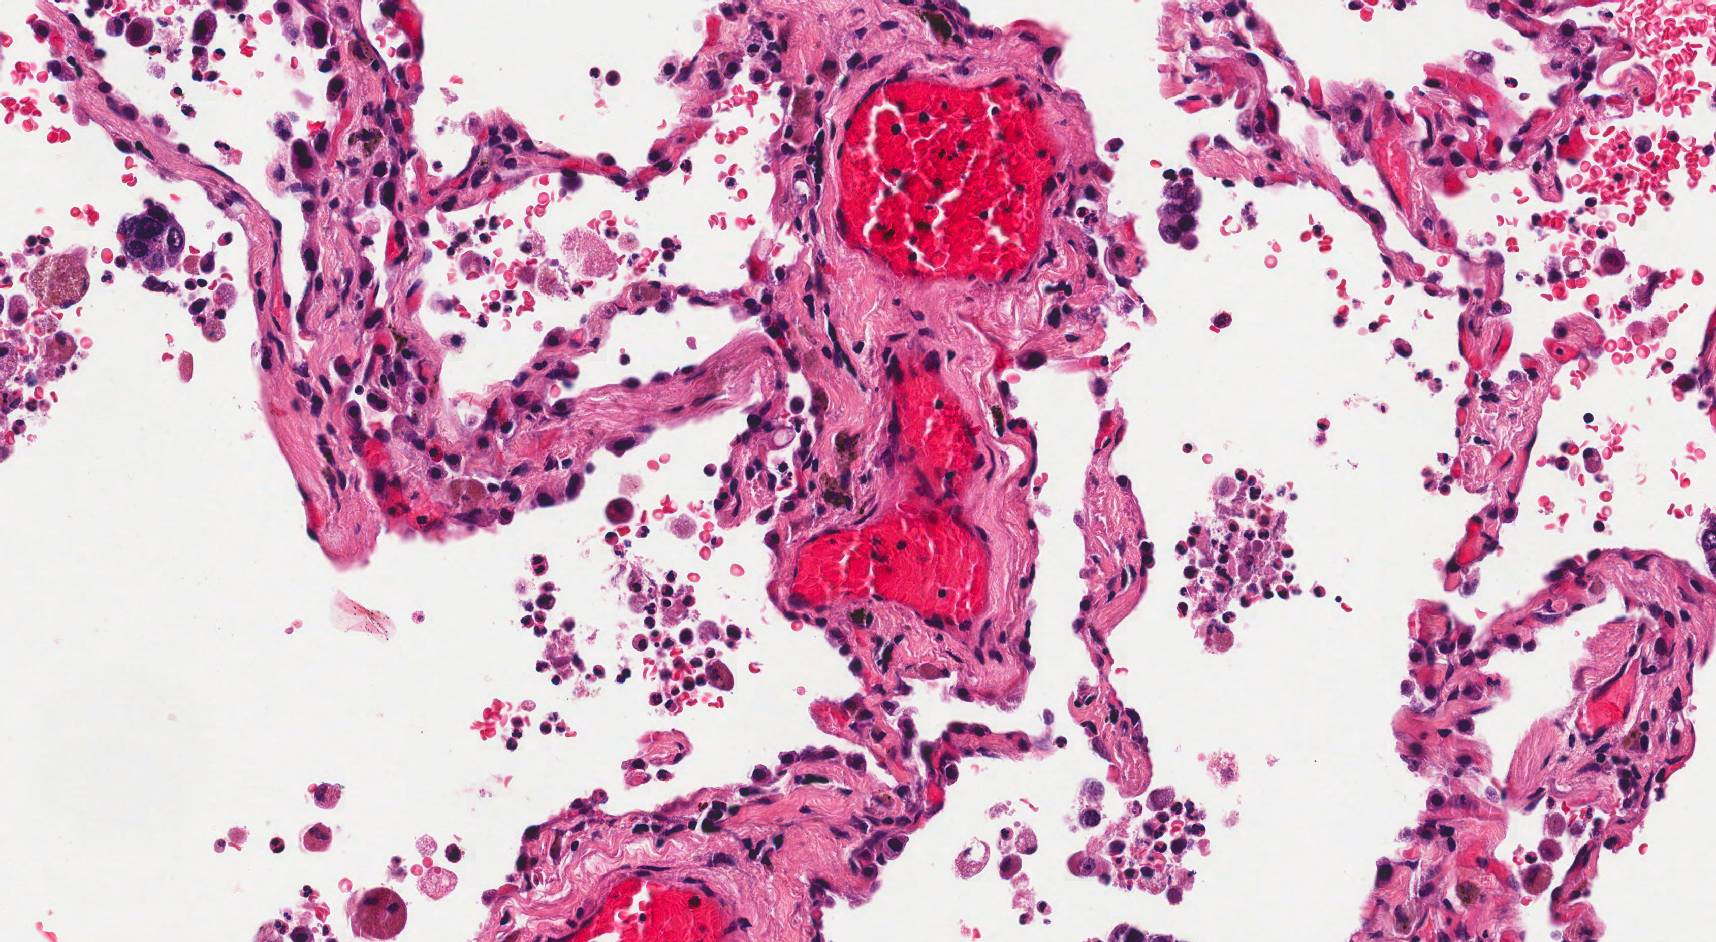stas: (119, 204, 187, 273), (1157, 173, 1202, 246)
